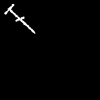double_crochet: (5, 4, 34, 32)
